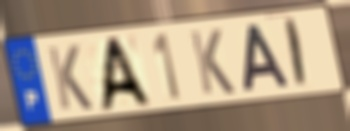1: (151, 30, 184, 103)
A: (96, 34, 155, 114), (242, 21, 293, 95)
I: (284, 16, 309, 91)
K: (187, 27, 238, 97), (45, 43, 95, 113)
